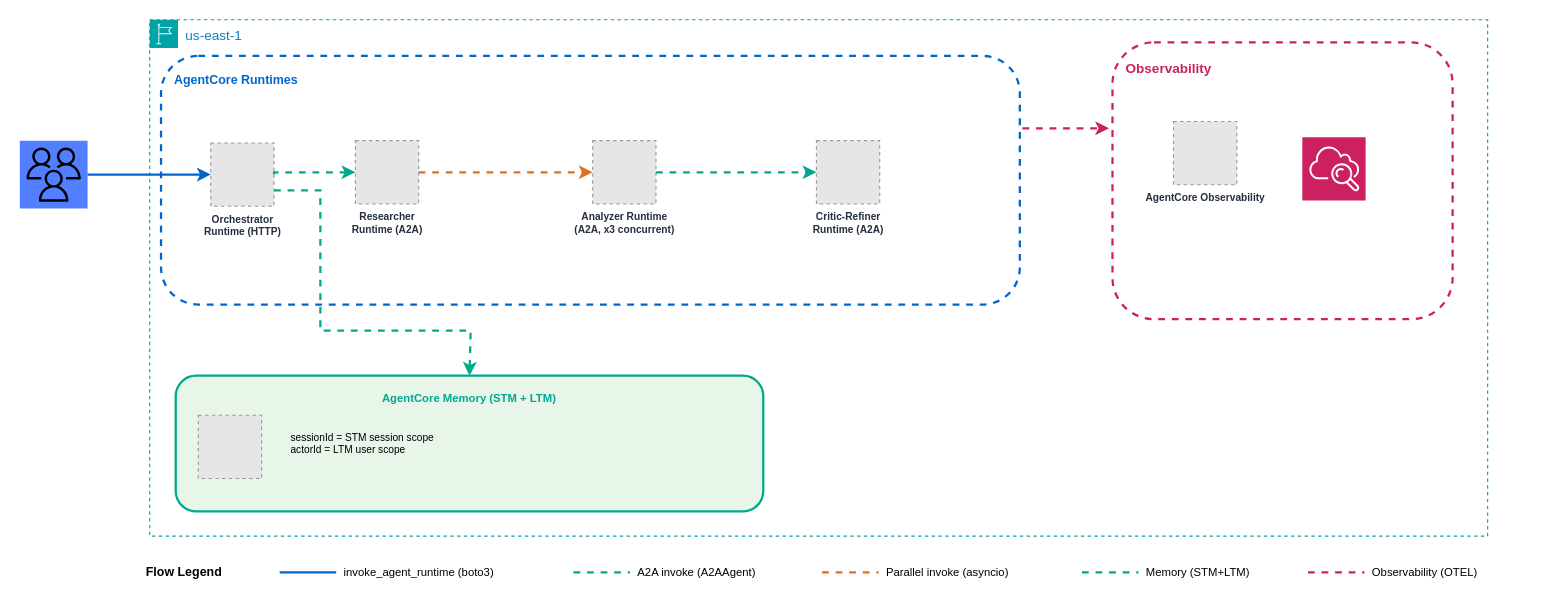
This 1558x605 diagram has some shape labels left out. Grey dashed boxes stand in for pictures. Each missing label, with the centre of its shape:
"Amazon CloudWatch" belongs at point 1333,168.
"User" belongs at point 53,174.
